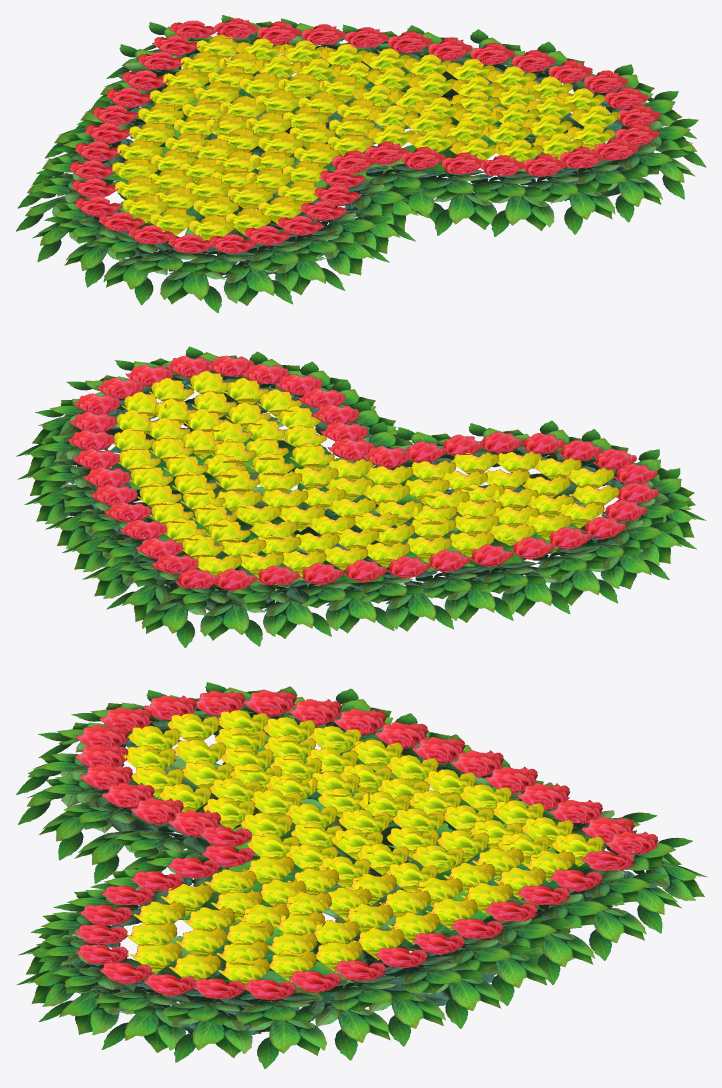
File: furni_0200207.FBX
The picture shows the model from 3 angles, top to bottom: view 1: azimuth 30°, elevation 25°; view 2: azimuth 150°, elevation 25°; view 3: azimuth 270°, elevation 25°; orthographic projection. The views are drawn at different scales.
Visible parts, largest first — view 1: furni_0200207; view 2: furni_0200207; view 3: furni_0200207.
Boxes of the visible parts, x1,y1,x2,y2 form: furni_0200207: (16, 15, 706, 313); furni_0200207: (16, 346, 705, 647); furni_0200207: (16, 682, 707, 1068).
Size of the model in its own units: 160 by 10.54 by 130.
